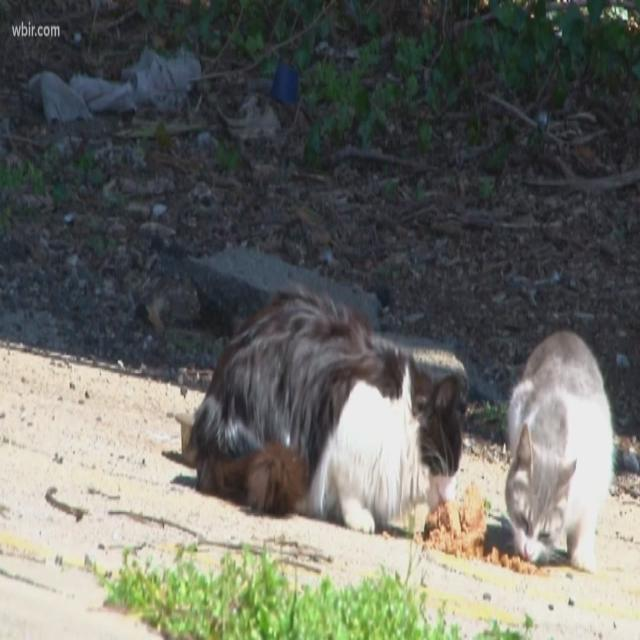cat: (191, 293, 461, 532), (505, 331, 612, 571)
